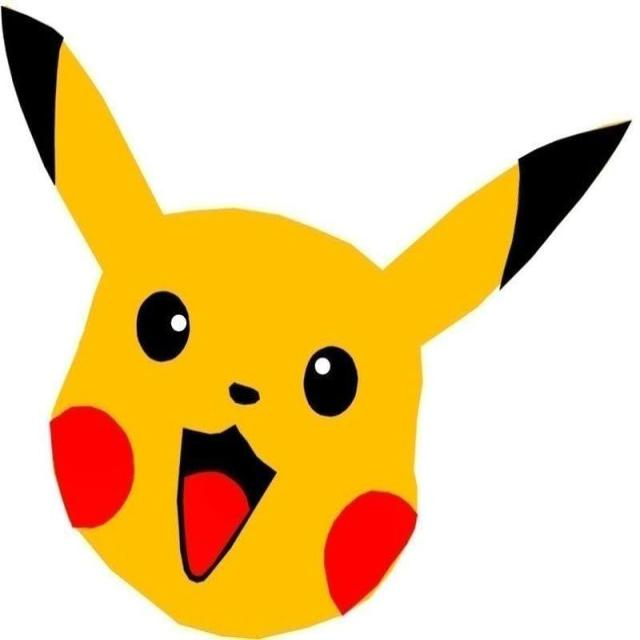pikachu: (0, 4, 631, 640)
